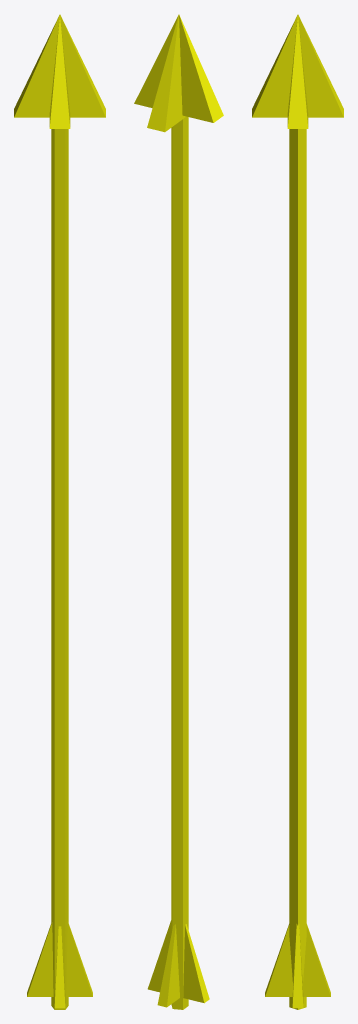
File: _arrow_b_4.glb
3 renders of one model, left to right at view 1: azimuth 90°, elevation 25°; view 2: azimuth 150°, elevation 25°; view 3: azimuth 270°, elevation 25°, orthographic.
Parts seen in each view (by area): view 1: arrow_b_4; view 2: arrow_b_4; view 3: arrow_b_4.
Part boxes in pixels (x1,y1,x2,y2): arrow_b_4: [14, 14, 105, 1009]; arrow_b_4: [134, 14, 223, 1009]; arrow_b_4: [252, 14, 343, 1009].
Bounding box in the file's own units: 0.0531 × 0.6323 × 0.0531.
1 material, 1 textured.
